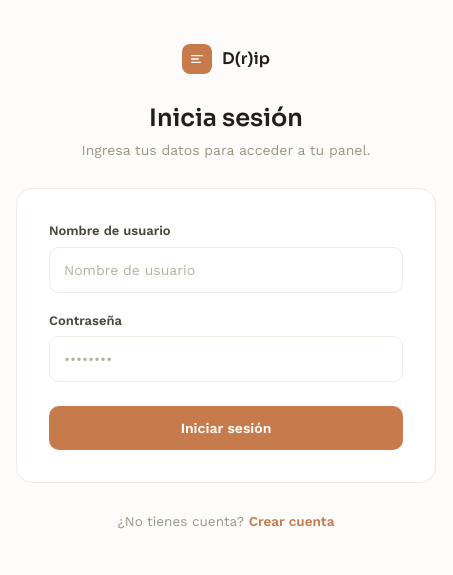
Test: LoginPage › submits credentials and shows an error on failure
Type "alice" into the field with placeholder "Nombre de usuario" at (226, 270), box [49, 247, 403, 293]
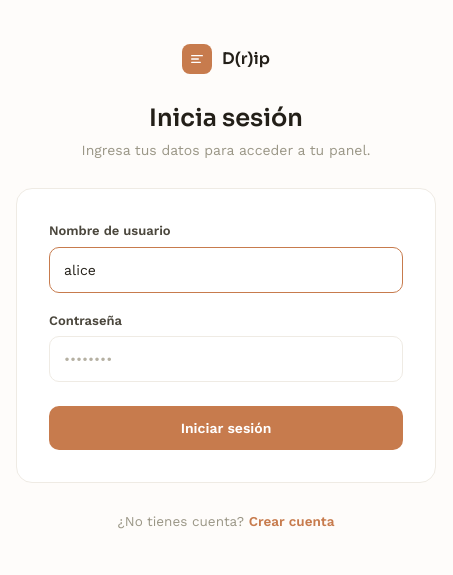
Type "wrong" into the password field with placeholder "••••••••" at (226, 359), box [49, 336, 403, 382]
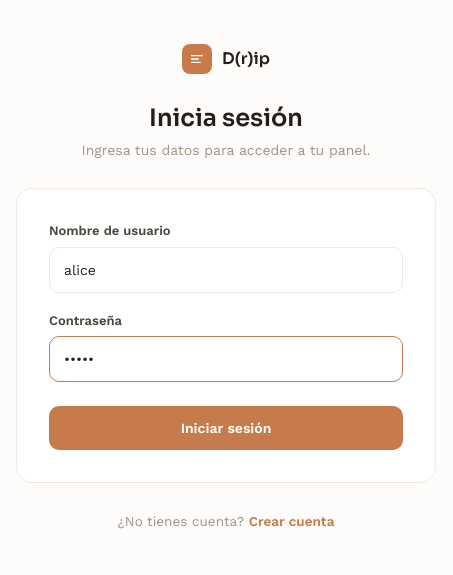
Click the button "Iniciar sesión" at (226, 428), box [49, 406, 403, 450]
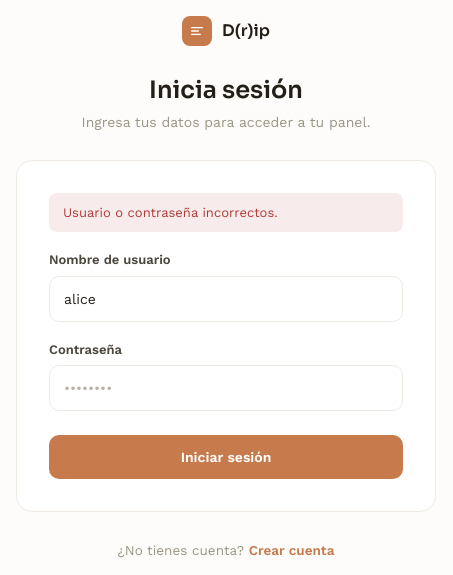
Expected: the text "Usuario o contraseña incorrectos." is shown, [49, 193, 403, 232]
